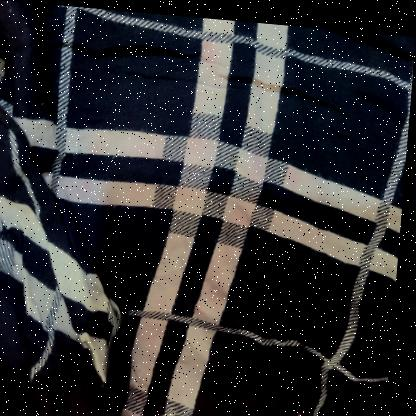spot: (109, 167, 209, 215)
